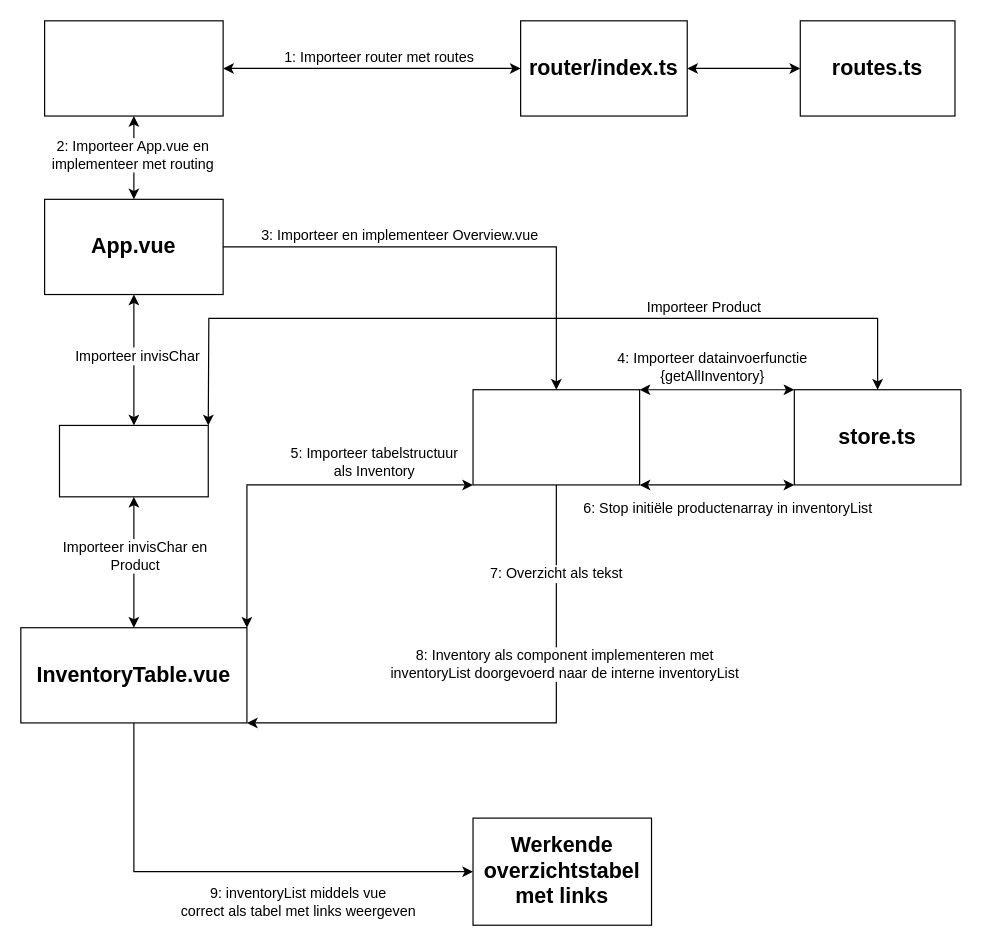
This 982x946 diagram has some shape labels left out. The box of each missing label's shape, as (x1, y1, x2, y2) in pixels:
constants.ts: (58, 424, 208, 497)
main.ts: (43, 20, 223, 116)
OverView.vue: (472, 389, 640, 485)
